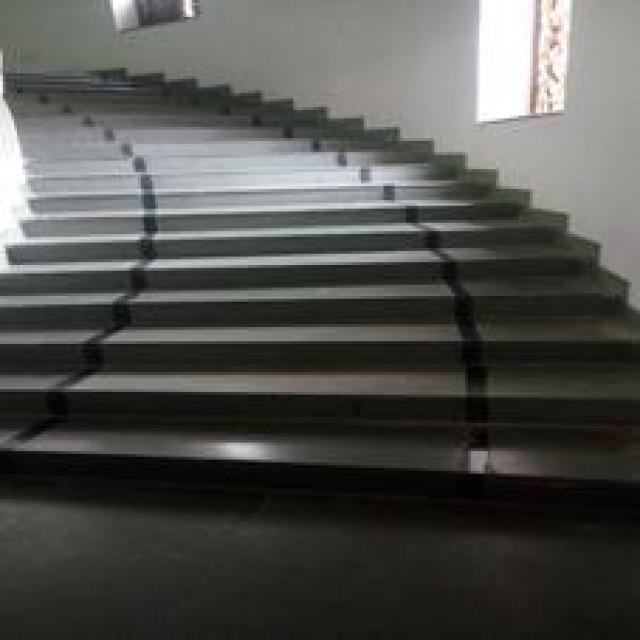upstair: (72, 238, 497, 508)
